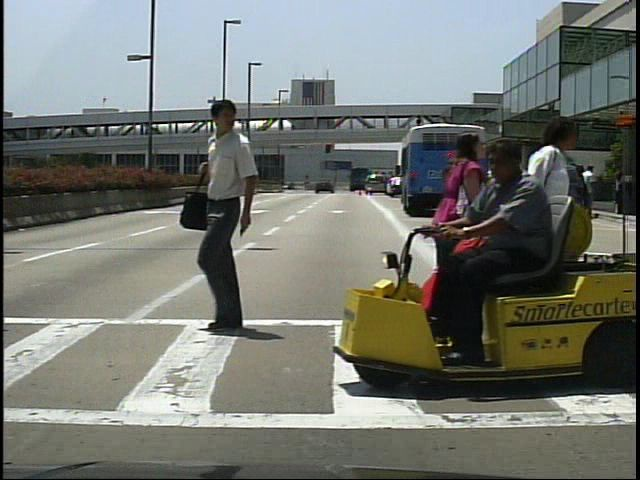person: (437, 143, 581, 378), (180, 93, 280, 336), (495, 110, 583, 365), (427, 125, 491, 356), (478, 190, 517, 323), (582, 164, 602, 218), (490, 163, 509, 213), (500, 166, 518, 218)
